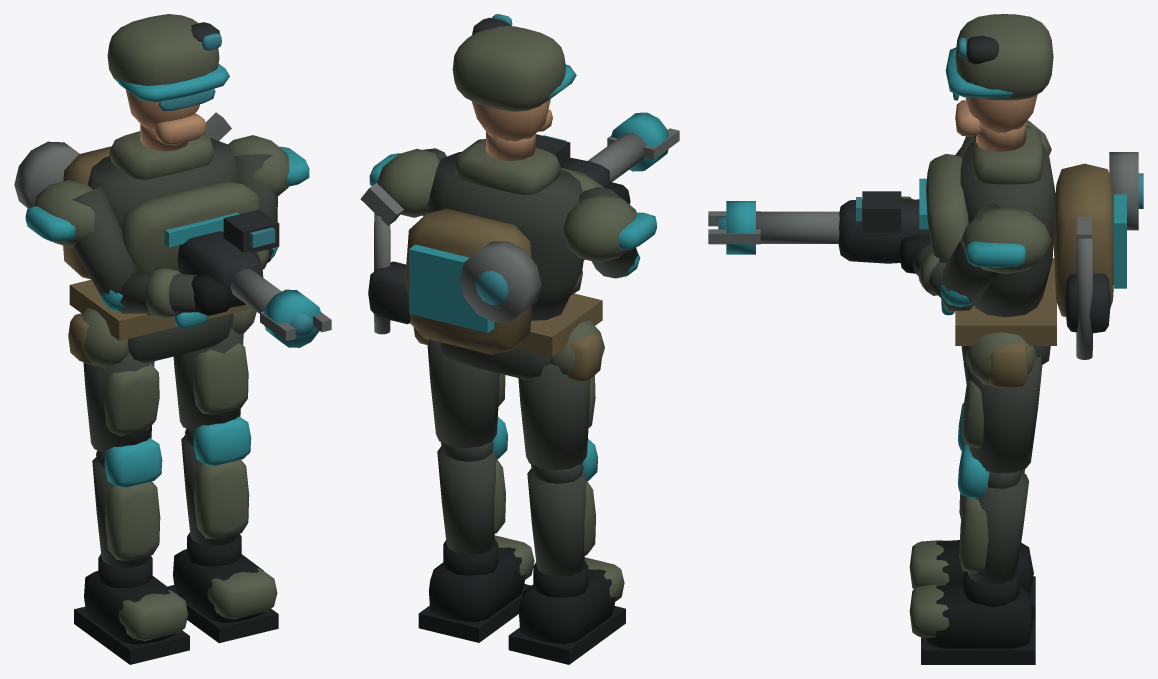
Rendered from Bastion_Engineer_Static.obj.
3 views of the same model, side by side, from view 1: azimuth 30°, elevation 25°; view 2: azimuth 150°, elevation 25°; view 3: azimuth 270°, elevation 25° (orthographic).
Visible parts, largest first — view 1: Static_ShinGuard, Static_ThighPlate, Static_ChestArmor, Static_Helmet, Static_Boot, Static_ToeCap, Static_Thigh, Static_KneePad, Static_TorsoCore, Static_Sole, Static_LeftUpperArm, Static_Collar (+28 smaller); view 2: Static_Thigh, Static_Shin, Static_TorsoCore, Static_Boot, Static_Helmet, Static_ToolPack, Static_ToolPackPanel, Static_Sole, Static_CableReel, Static_Collar, Static_LeftShoulder, Static_RightShoulder (+22 smaller); view 3: Static_TorsoCore, Static_Boot, Static_Helmet, Static_ToolPack, Static_Thigh, Static_Shin, Static_ChestArmor, Static_Belt, Static_RightShoulder, Static_ToolBody, Static_ToeCap, Static_Collar (+24 smaller).
Boxes of the visible parts, x1,y1,x2,y2 form: Static_ShinGuard: (105,459,249,561); Static_ThighPlate: (104,343,248,436); Static_ChestArmor: (121,180,258,271); Static_Helmet: (107,14,219,85); Static_Boot: (84,549,266,644); Static_ToeCap: (118,568,277,640); Static_Thigh: (83,327,243,453); Static_KneePad: (104,416,251,487); Static_TorsoCore: (87,138,238,229); Static_Sole: (74,585,278,664); Static_LeftUpperArm: (72,187,138,296); Static_Collar: (109,131,214,179); Static_Thigh: (427,339,590,470); Static_Shin: (437,446,586,576); Static_TorsoCore: (427,152,583,320); Static_Boot: (429,547,615,644); Static_Helmet: (452,25,565,111); Static_ToolPack: (405,208,532,354); Static_ToolPackPanel: (409,244,494,332); Static_Sole: (418,584,625,664); Static_CableReel: (459,241,541,322); Static_Collar: (454,139,560,194); Static_LeftShoulder: (562,195,636,262); Static_RightShoulder: (377,149,438,217); Static_TorsoCore: (960,141,1055,317); Static_Boot: (926,540,1033,648); Static_Helmet: (955,14,1053,100); Static_ToolPack: (1053,163,1113,316); Static_Thigh: (968,356,1042,473); Static_Shin: (968,469,1028,584); Static_ChestArmor: (926,154,968,262); Static_Belt: (955,258,1056,345); Static_RightShoulder: (960,207,1051,274); Static_ToolBody: (838,198,929,263); Static_ToeCap: (909,540,949,637); Static_Collar: (971,125,1043,184).
Bounding box in the file's own units: 0.9548 × 2.04 × 1.33.
Materials: 1 (1 with a texture image).
